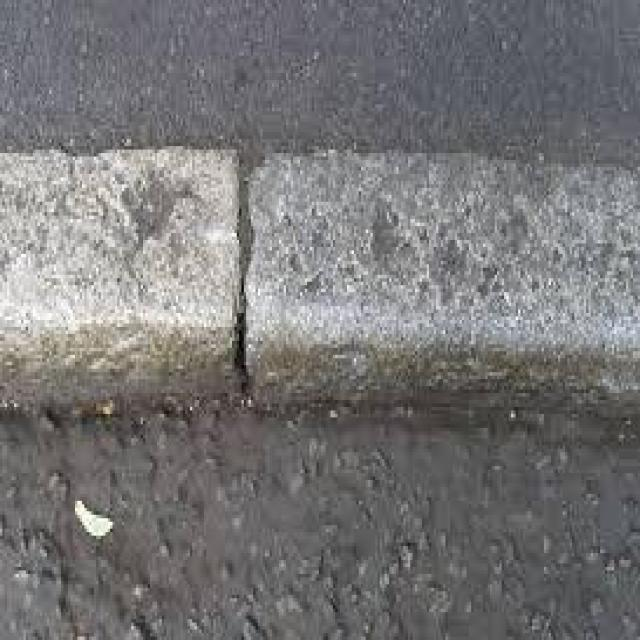curb: (1, 153, 636, 417)
